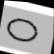no answer: (0, 10, 42, 46)
